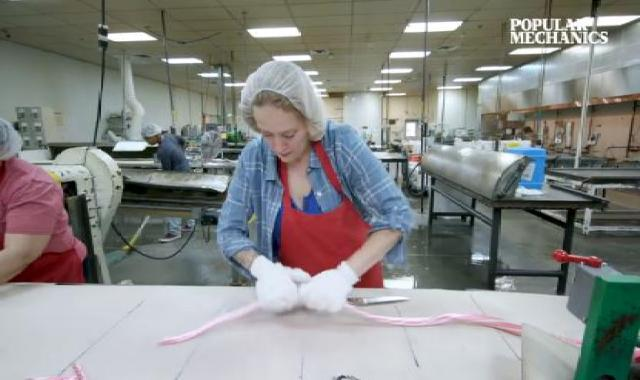hairnet: (226, 62, 345, 134)
